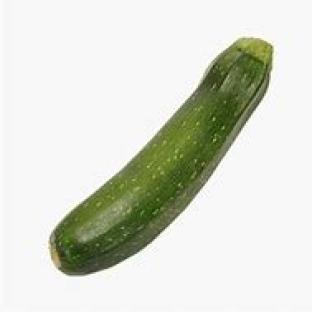Zucchini: (50, 39, 272, 273)
